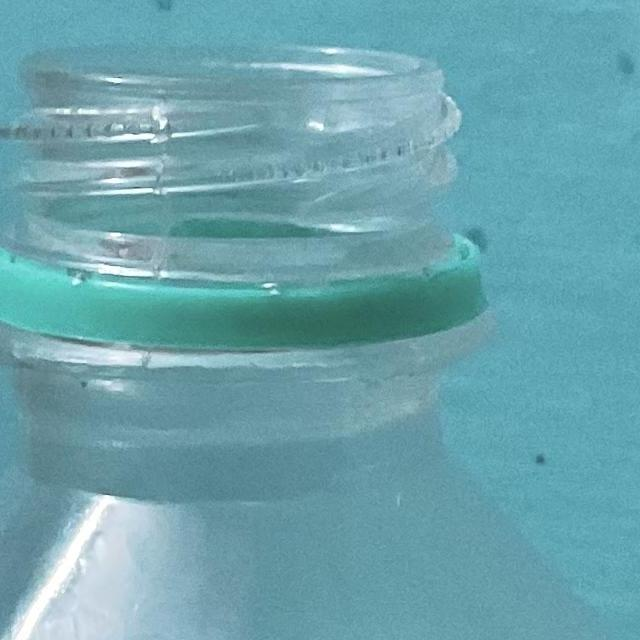open-cap: (0, 29, 501, 354)
